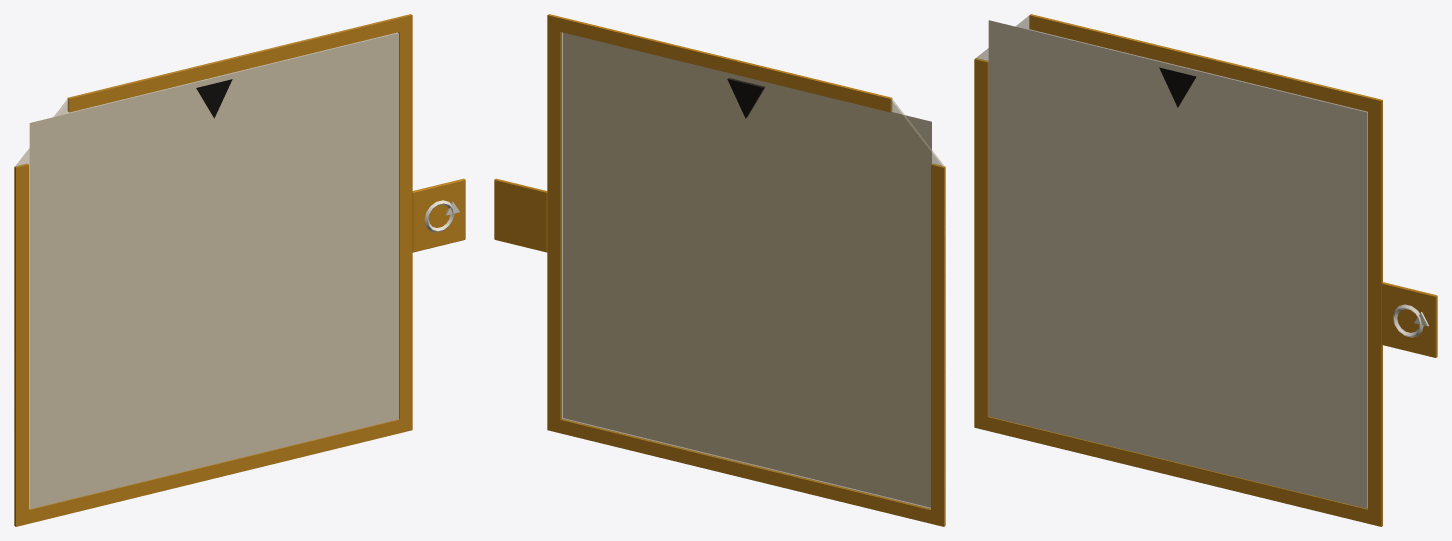
The model's file is acetate_sheet_c.glb.
The picture shows the model from 3 angles, left to right: view 1: azimuth 30°, elevation 25°; view 2: azimuth 150°, elevation 25°; view 3: azimuth 330°, elevation 25°; orthographic projection. The views are drawn at different scales.
Visible parts, largest first — view 1: sheet_print, IA_sheet, IA_flip_tab; view 2: IA_sheet, sheet_print, IA_flip_tab; view 3: sheet_print, IA_sheet, IA_flip_tab.
Boxes of the visible parts, box(x1,y1,x2,y2) form: sheet_print: box(29, 33, 398, 508); IA_sheet: box(14, 14, 412, 526); IA_flip_tab: box(412, 178, 465, 252); IA_sheet: box(547, 14, 945, 526); sheet_print: box(563, 33, 931, 507); IA_flip_tab: box(494, 178, 547, 252); sheet_print: box(988, 20, 1367, 508); IA_sheet: box(974, 14, 1382, 526); IA_flip_tab: box(1381, 282, 1437, 357).
Bounding box in the file's own units: 0.295 × 0.26 × 0.0038.
